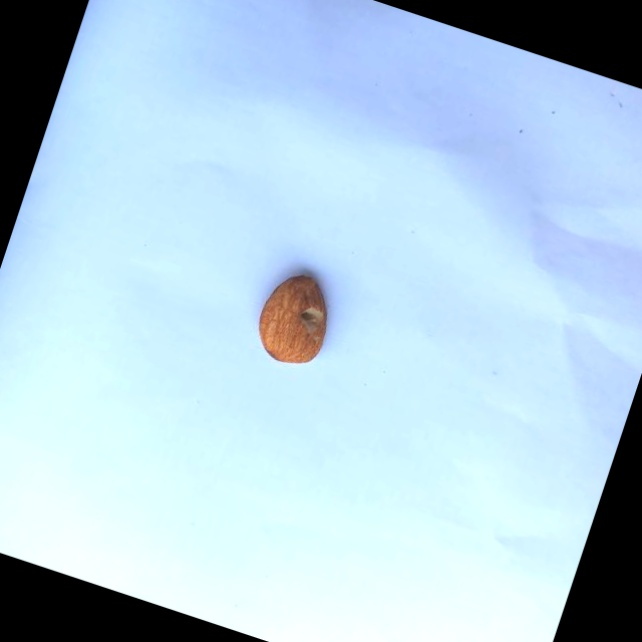grade3: (245, 261, 348, 378)
